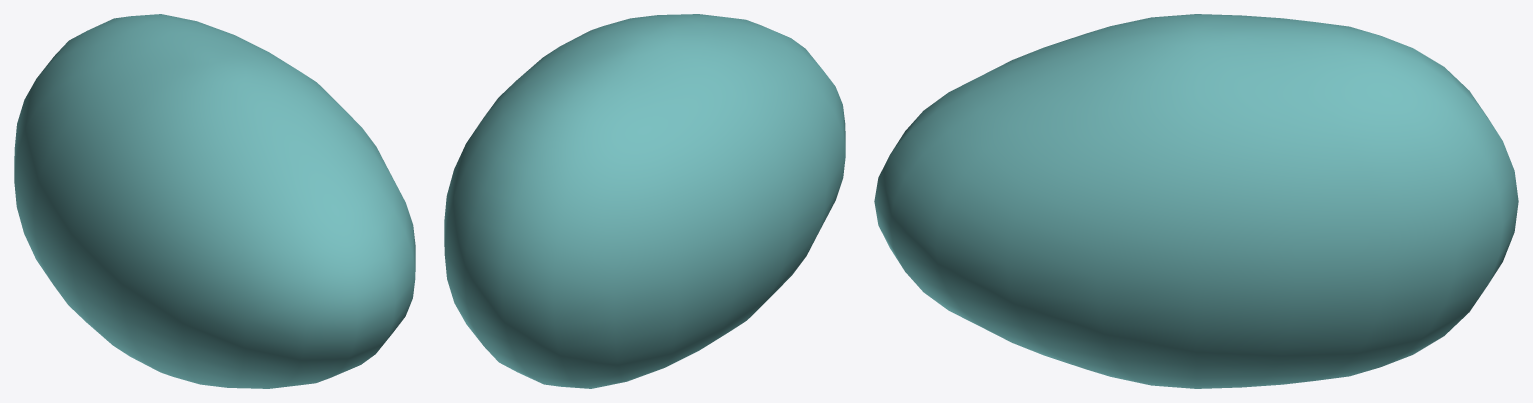
The model's file is Cross_Arrow.gltf.
3 renders of one model, left to right at view 1: azimuth 30°, elevation 25°; view 2: azimuth 150°, elevation 25°; view 3: azimuth 270°, elevation 25°, orthographic. The views are drawn at different scales.
Visible parts, largest first — view 1: Cross_Arrow_; view 2: Cross_Arrow_; view 3: Cross_Arrow_.
Part boxes in pixels (<box>): Cross_Arrow_: <box>14,14,415,388</box>; Cross_Arrow_: <box>444,14,845,388</box>; Cross_Arrow_: <box>874,14,1518,388</box>.
Bounding box in the file's own units: 2 × 2 × 3.43.
